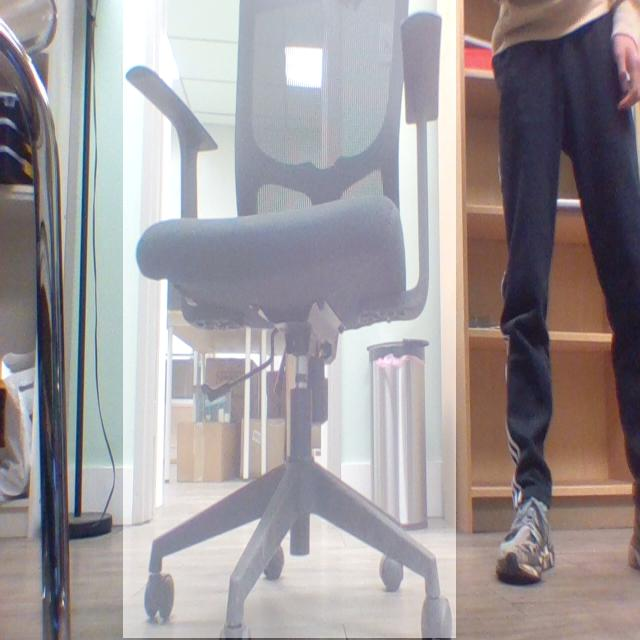black-chair: (123, 0, 457, 639)
